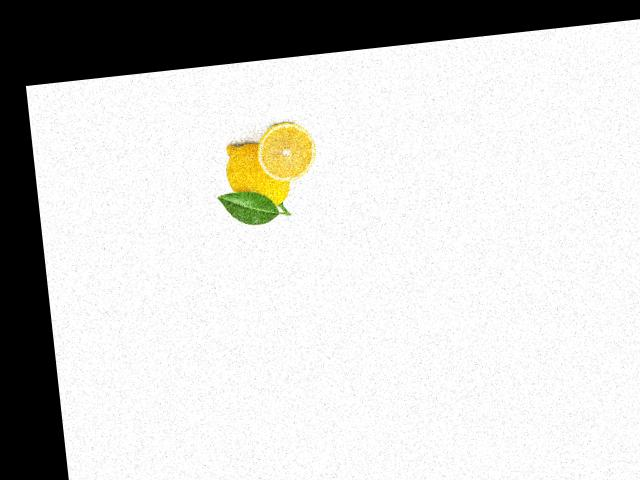lemon: (219, 135, 297, 221)
